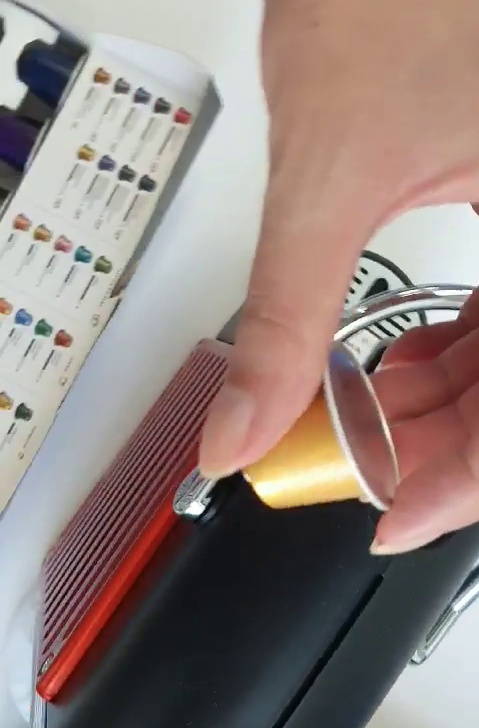capsule_8: (231, 337, 402, 517)
